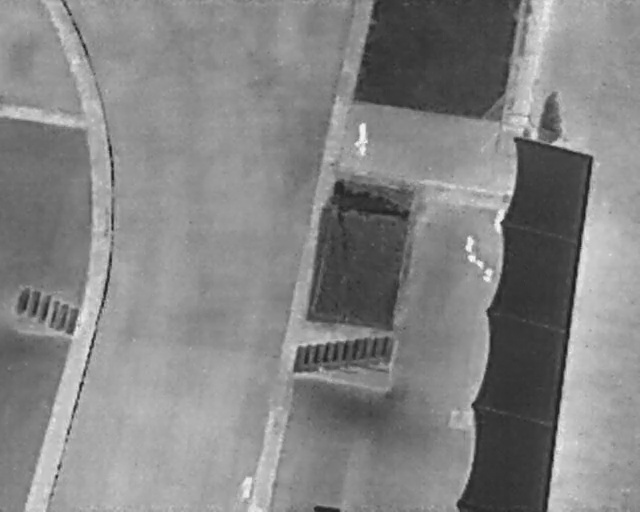Person: (236, 472, 255, 503), (490, 205, 506, 234), (355, 123, 369, 146)
